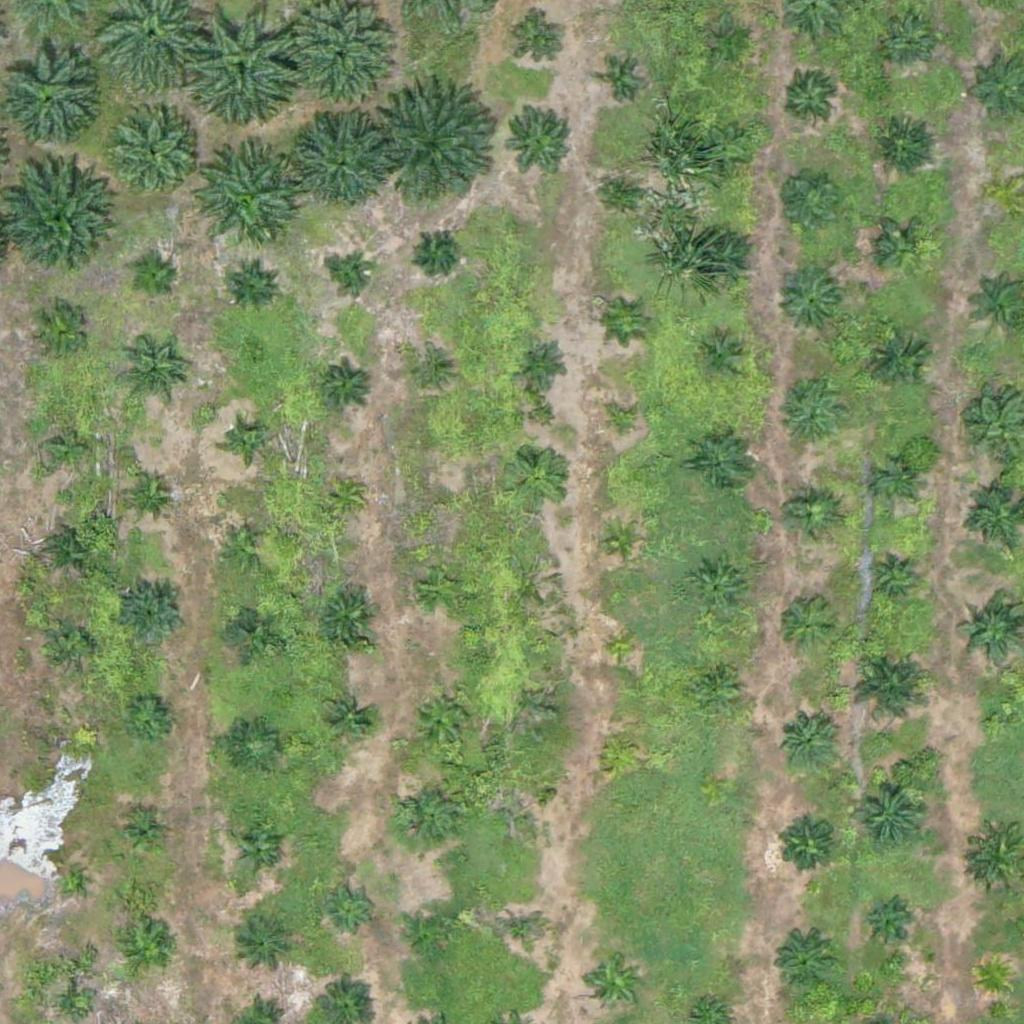Kelapa_Sawit: (182, 4, 307, 130), (378, 85, 503, 210), (188, 148, 300, 261), (289, 109, 389, 210), (103, 103, 203, 204), (848, 644, 935, 732), (770, 165, 845, 241), (851, 775, 926, 850), (502, 101, 577, 176), (774, 593, 837, 656), (779, 386, 842, 449), (777, 710, 840, 773), (235, 913, 298, 976), (120, 346, 183, 409), (26, 300, 89, 363), (393, 784, 456, 847), (692, 429, 755, 492), (583, 952, 646, 1015), (122, 582, 185, 645), (688, 559, 751, 622), (693, 229, 756, 292), (872, 113, 935, 176), (37, 417, 100, 480), (778, 270, 840, 333), (771, 930, 833, 993), (775, 813, 837, 876), (868, 330, 930, 393), (317, 586, 379, 649), (411, 687, 473, 750), (507, 447, 569, 510), (229, 721, 279, 772), (697, 333, 747, 384), (227, 603, 277, 654), (47, 525, 97, 576), (516, 18, 566, 69), (704, 127, 754, 178), (123, 468, 173, 519), (48, 619, 98, 670), (124, 692, 174, 743), (322, 692, 372, 743), (496, 907, 546, 958), (408, 905, 458, 956), (326, 882, 376, 933), (234, 824, 284, 875), (786, 492, 836, 542), (858, 901, 908, 951), (878, 222, 928, 272), (227, 261, 277, 311), (123, 926, 173, 976), (321, 359, 371, 409), (691, 660, 741, 710), (786, 74, 836, 124), (880, 15, 930, 65), (517, 338, 567, 388), (417, 563, 467, 613), (220, 523, 270, 573), (128, 256, 178, 306), (119, 809, 169, 859), (867, 553, 916, 604), (611, 303, 649, 341), (418, 231, 456, 269), (974, 958, 1012, 996), (711, 20, 749, 58), (604, 404, 642, 442), (602, 523, 640, 561), (604, 630, 642, 668), (600, 730, 638, 768), (326, 477, 364, 515), (229, 422, 267, 460), (335, 257, 372, 295), (877, 462, 914, 500), (412, 355, 449, 393), (424, 484, 461, 522), (507, 782, 544, 820), (602, 65, 639, 102), (606, 175, 643, 212), (994, 183, 1019, 208), (984, 710, 1009, 735), (56, 866, 81, 891), (61, 994, 86, 1019)
